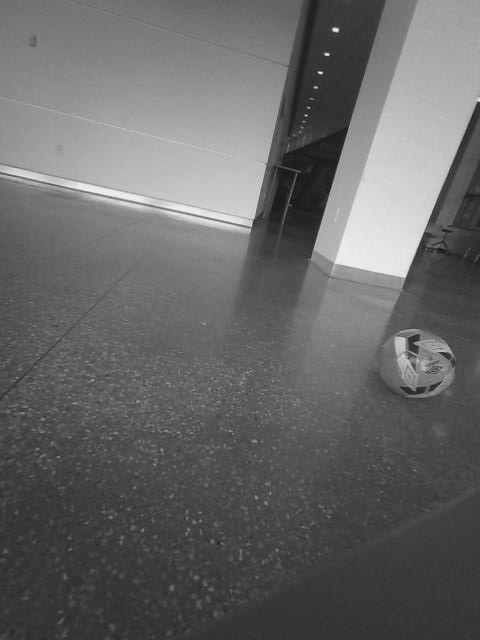ball: (372, 327, 459, 401)
